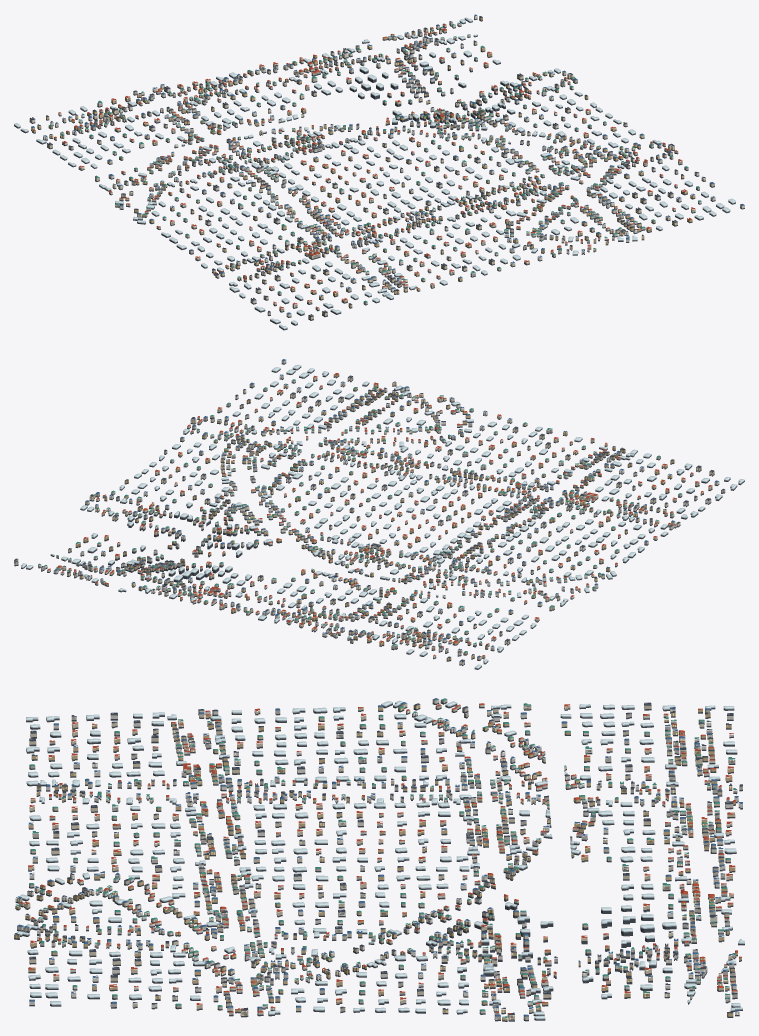
Rendered from osm_buildings_T_E04_N00.glb.
3 renders of one model, top to bottom at view 1: azimuth 30°, elevation 25°; view 2: azimuth 150°, elevation 25°; view 3: azimuth 270°, elevation 25°, orthographic. The views are drawn at different scales.
Parts seen in each view (by area): view 1: OSM_T_E04_N00_foundation, OSM_T_E04_N00_greenhouse_blend, OSM_T_E04_N00_wall_cream_stucco, OSM_T_E04_N00_wall_french_ochre, OSM_T_E04_N00_wall_warm_white, OSM_T_E04_N00_wall_pastel_sand, OSM_T_E04_N00_roof_terracotta, OSM_T_E04_N00_roof_mansard_slate, OSM_T_E04_N00_roof_mint_metal, OSM_T_E04_N00_roof_alpine_blue; view 2: OSM_T_E04_N00_foundation, OSM_T_E04_N00_greenhouse_blend, OSM_T_E04_N00_wall_cream_stucco, OSM_T_E04_N00_wall_french_ochre, OSM_T_E04_N00_wall_warm_white, OSM_T_E04_N00_wall_pastel_sand, OSM_T_E04_N00_roof_terracotta, OSM_T_E04_N00_roof_mansard_slate, OSM_T_E04_N00_roof_mint_metal, OSM_T_E04_N00_roof_alpine_blue; view 3: OSM_T_E04_N00_foundation, OSM_T_E04_N00_greenhouse_blend, OSM_T_E04_N00_wall_cream_stucco, OSM_T_E04_N00_wall_french_ochre, OSM_T_E04_N00_wall_warm_white, OSM_T_E04_N00_wall_pastel_sand, OSM_T_E04_N00_roof_terracotta, OSM_T_E04_N00_roof_mansard_slate, OSM_T_E04_N00_roof_mint_metal, OSM_T_E04_N00_roof_alpine_blue, OSM_T_E04_N00_roof_mansard_deck.
Part boxes in pixels (left/top/right/bottom): OSM_T_E04_N00_foundation: left=14, top=18, right=744, bottom=330; OSM_T_E04_N00_greenhouse_blend: left=14, top=17, right=735, bottom=329; OSM_T_E04_N00_wall_cream_stucco: left=31, top=28, right=705, bottom=319; OSM_T_E04_N00_wall_french_ochre: left=32, top=17, right=695, bottom=307; OSM_T_E04_N00_wall_warm_white: left=29, top=16, right=744, bottom=316; OSM_T_E04_N00_wall_pastel_sand: left=60, top=22, right=714, bottom=314; OSM_T_E04_N00_roof_terracotta: left=32, top=23, right=695, bottom=308; OSM_T_E04_N00_roof_mansard_slate: left=30, top=16, right=705, bottom=316; OSM_T_E04_N00_roof_mint_metal: left=49, top=22, right=701, bottom=302; OSM_T_E04_N00_roof_alpine_blue: left=31, top=14, right=744, bottom=314; OSM_T_E04_N00_foundation: left=14, top=362, right=744, bottom=669; OSM_T_E04_N00_greenhouse_blend: left=21, top=364, right=744, bottom=668; OSM_T_E04_N00_wall_cream_stucco: left=56, top=377, right=714, bottom=659; OSM_T_E04_N00_wall_french_ochre: left=14, top=374, right=703, bottom=660; OSM_T_E04_N00_wall_warm_white: left=14, top=360, right=719, bottom=664; OSM_T_E04_N00_wall_pastel_sand: left=38, top=383, right=725, bottom=652; OSM_T_E04_N00_roof_terracotta: left=47, top=373, right=712, bottom=656; OSM_T_E04_N00_roof_mansard_slate: left=14, top=376, right=724, bottom=662; OSM_T_E04_N00_roof_mint_metal: left=38, top=379, right=681, bottom=652; OSM_T_E04_N00_roof_alpine_blue: left=14, top=359, right=718, bottom=657; OSM_T_E04_N00_foundation: left=14, top=702, right=744, bottom=1021; OSM_T_E04_N00_greenhouse_blend: left=16, top=700, right=744, bottom=1019; OSM_T_E04_N00_wall_cream_stucco: left=19, top=703, right=735, bottom=1020; OSM_T_E04_N00_wall_french_ochre: left=14, top=704, right=737, bottom=1020; OSM_T_E04_N00_wall_warm_white: left=17, top=699, right=742, bottom=1015; OSM_T_E04_N00_wall_pastel_sand: left=15, top=699, right=742, bottom=1019; OSM_T_E04_N00_roof_terracotta: left=19, top=703, right=741, bottom=1013; OSM_T_E04_N00_roof_mansard_slate: left=14, top=702, right=742, bottom=1014; OSM_T_E04_N00_roof_mint_metal: left=16, top=698, right=736, bottom=1017; OSM_T_E04_N00_roof_alpine_blue: left=16, top=698, right=742, bottom=1016; OSM_T_E04_N00_roof_mansard_deck: left=30, top=702, right=732, bottom=992.
Size of the model in its own units: 1935 by 107 by 1926.
